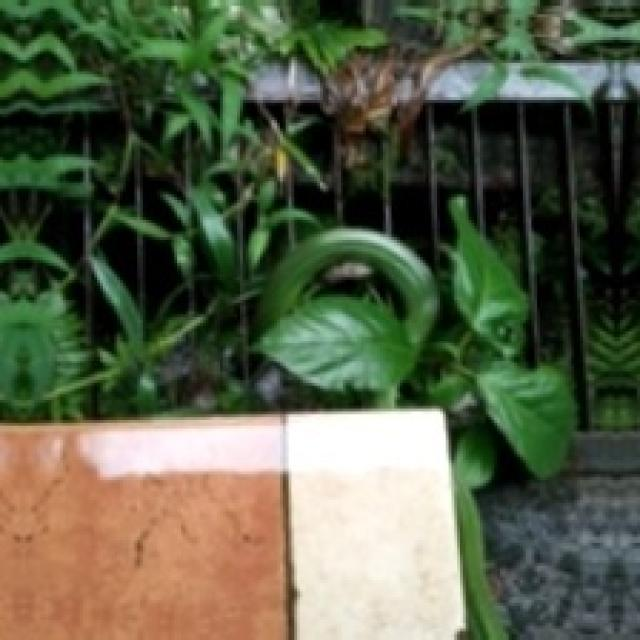red-tailed green ratsnake: (265, 228, 439, 347), (454, 472, 506, 640)
